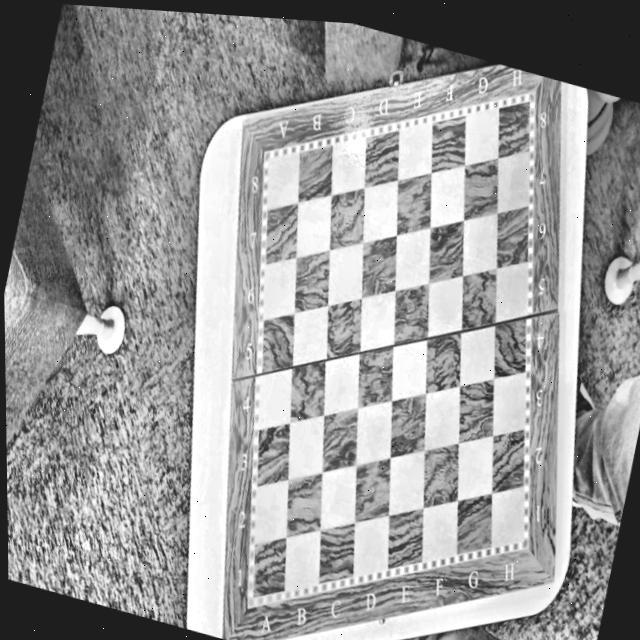chessboard: (100, 7, 640, 640)
